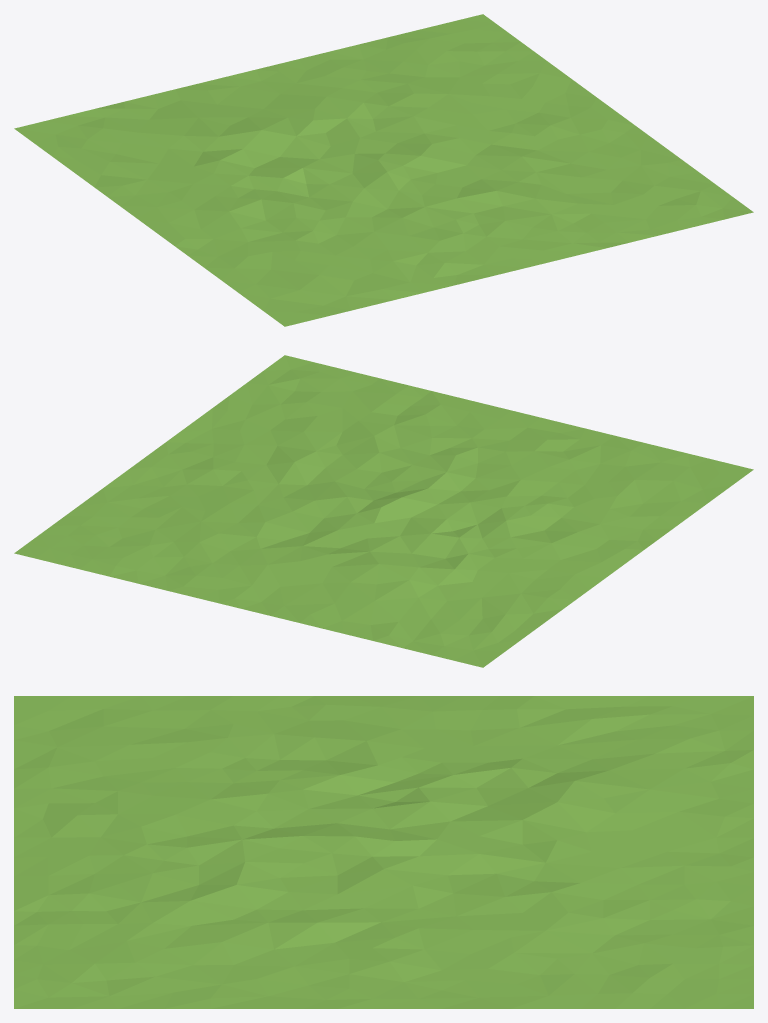
File: MT_Terrain_M_a_02_LOD.fbx
3 views of the same model, one above another, from view 1: azimuth 30°, elevation 25°; view 2: azimuth 150°, elevation 25°; view 3: azimuth 270°, elevation 25° (orthographic). The views are drawn at different scales.
Parts seen in each view (by area): view 1: MT_Terrain_M_a_02_LOD0; view 2: MT_Terrain_M_a_02_LOD0; view 3: MT_Terrain_M_a_02_LOD0.
Boxes of the visible parts, bbox=[...] form: MT_Terrain_M_a_02_LOD0: bbox=[14, 14, 753, 326]; MT_Terrain_M_a_02_LOD0: bbox=[14, 355, 753, 667]; MT_Terrain_M_a_02_LOD0: bbox=[14, 696, 753, 1008].
Size of what is drawn, in the model's own units: 5000 by 92.14 by 5000.
